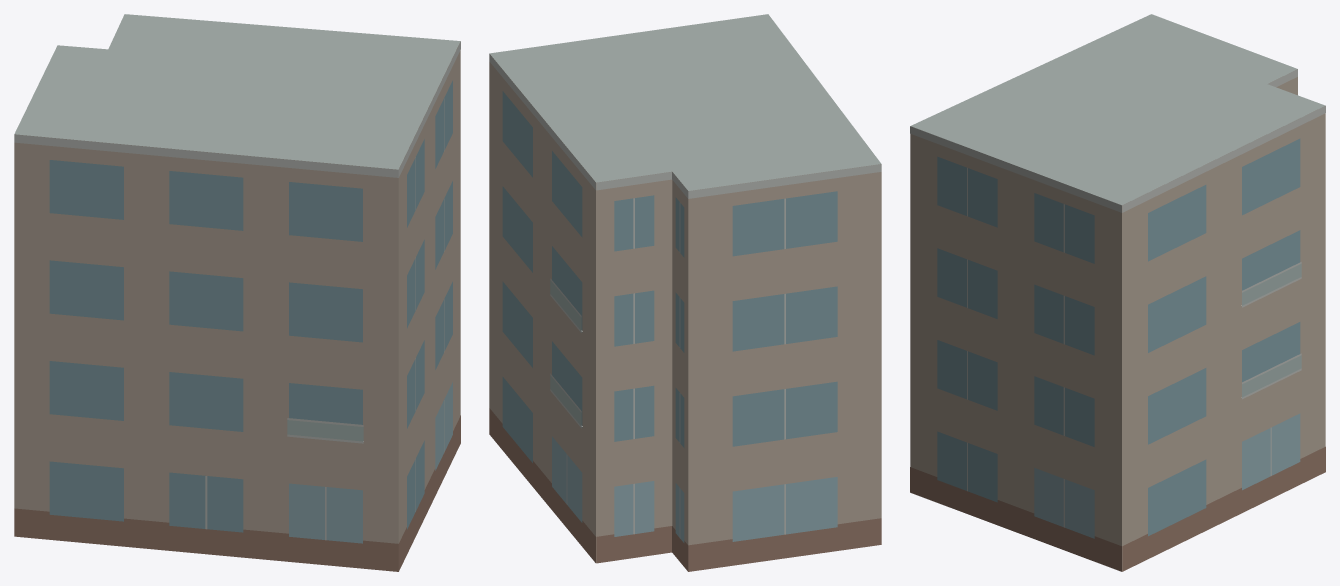
File: survey-upis-32537361.glb
The picture shows the model from 3 angles, left to right: view 1: azimuth 30°, elevation 25°; view 2: azimuth 150°, elevation 25°; view 3: azimuth 270°, elevation 25°; orthographic projection. The views are drawn at different scales.
Parts seen in each view (by area): view 1: survey-upis-32537361.tmp; view 2: survey-upis-32537361.tmp; view 3: survey-upis-32537361.tmp.
Boxes of the visible parts, x1,y1,x2,y2 form: survey-upis-32537361.tmp: (14, 14, 460, 571); survey-upis-32537361.tmp: (489, 14, 881, 571); survey-upis-32537361.tmp: (910, 14, 1325, 571).
Size of the model in its own units: 13.22 by 11.8 by 12.13.
